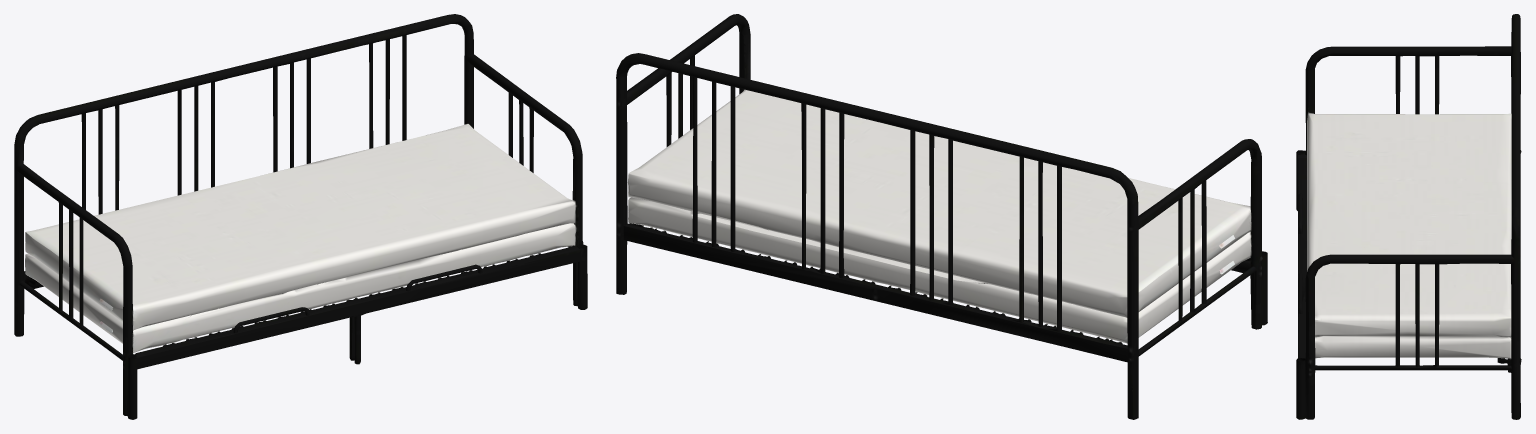
Rendered from 22 - FYRESDAL Day-bed with 2 mattresses - blackÅgotnes firm 80x200 cm.glb.
3 views of the same model, side by side, from view 1: azimuth 30°, elevation 25°; view 2: azimuth 150°, elevation 25°; view 3: azimuth 270°, elevation 25° (orthographic). The views are drawn at different scales.
Visible parts, largest first — view 1: base_bedsize; view 2: base_bedsize; view 3: base_bedsize.
Boxes of the visible parts, x1,y1,x2,y2 form: base_bedsize: (14, 14, 587, 419); base_bedsize: (616, 14, 1267, 419); base_bedsize: (1296, 14, 1521, 419).
Size of the model in its own units: 2.09 by 0.9326 by 0.9343.
1 material, 1 textured.
